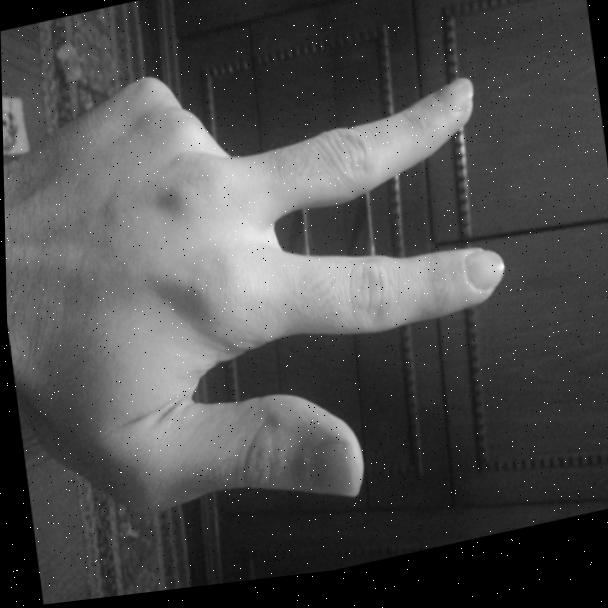three: (1, 0, 548, 596)
